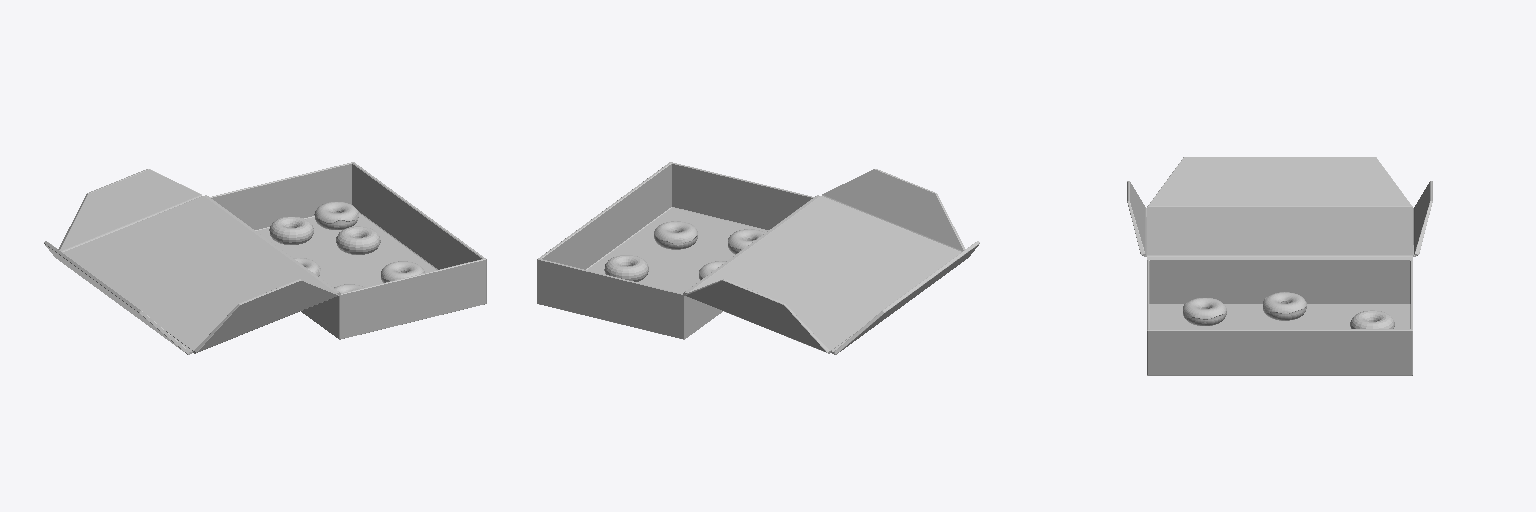
Rendered from BoxWDonuts.obj.
3 views of the same model, side by side, from view 1: azimuth 30°, elevation 25°; view 2: azimuth 150°, elevation 25°; view 3: azimuth 270°, elevation 25° (orthographic).
Parts seen in each view (by area): view 1: pCube3, BasicDonut1, BasicDonut, FrostedDonut_Low3, FrostedDonut_Low2; view 2: pCube3, FrostedDonut_Low2, BasicDonut1, FrostedDonut_Low1; view 3: pCube3, FrostedDonut_Low, FrostedDonut_Low1, BasicDonut.
Part boxes in pixels (left/top/right/bottom): pCube3: left=44, top=162, right=486, bottom=354; BasicDonut1: left=336, top=226, right=380, bottom=254; BasicDonut: left=269, top=217, right=313, bottom=244; FrostedDonut_Low3: left=314, top=202, right=358, bottom=229; FrostedDonut_Low2: left=381, top=261, right=424, bottom=282; pCube3: left=537, top=162, right=979, bottom=354; FrostedDonut_Low2: left=654, top=221, right=697, bottom=249; BasicDonut1: left=604, top=255, right=648, bottom=281; FrostedDonut_Low1: left=728, top=229, right=765, bottom=254; pCube3: left=1127, top=157, right=1432, bottom=375; FrostedDonut_Low: left=1263, top=292, right=1306, bottom=320; FrostedDonut_Low1: left=1183, top=298, right=1226, bottom=325; BasicDonut: left=1350, top=310, right=1394, bottom=328.
Size of the model in its own units: 11.01 by 2.53 by 8.85.